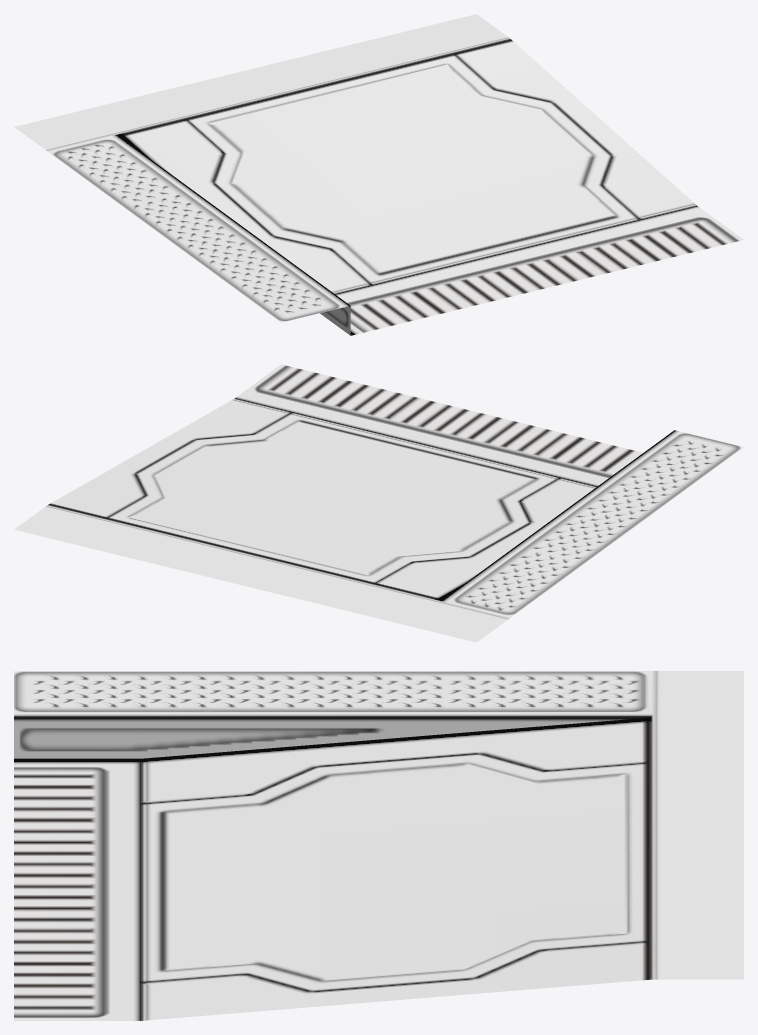
File: Sect_Floor_11a.FBX
3 renders of one model, top to bottom at view 1: azimuth 30°, elevation 25°; view 2: azimuth 150°, elevation 25°; view 3: azimuth 270°, elevation 25°, orthographic. The views are drawn at different scales.
Parts seen in each view (by area): view 1: Floor_11a; view 2: Floor_11a; view 3: Floor_11a.
Part boxes in pixels (x1,y1,x2,y2): Floor_11a: [14, 14, 743, 335]; Floor_11a: [14, 364, 743, 642]; Floor_11a: [14, 671, 743, 1020].
Bounding box in the file's own units: 4 × 0.25 × 4.
